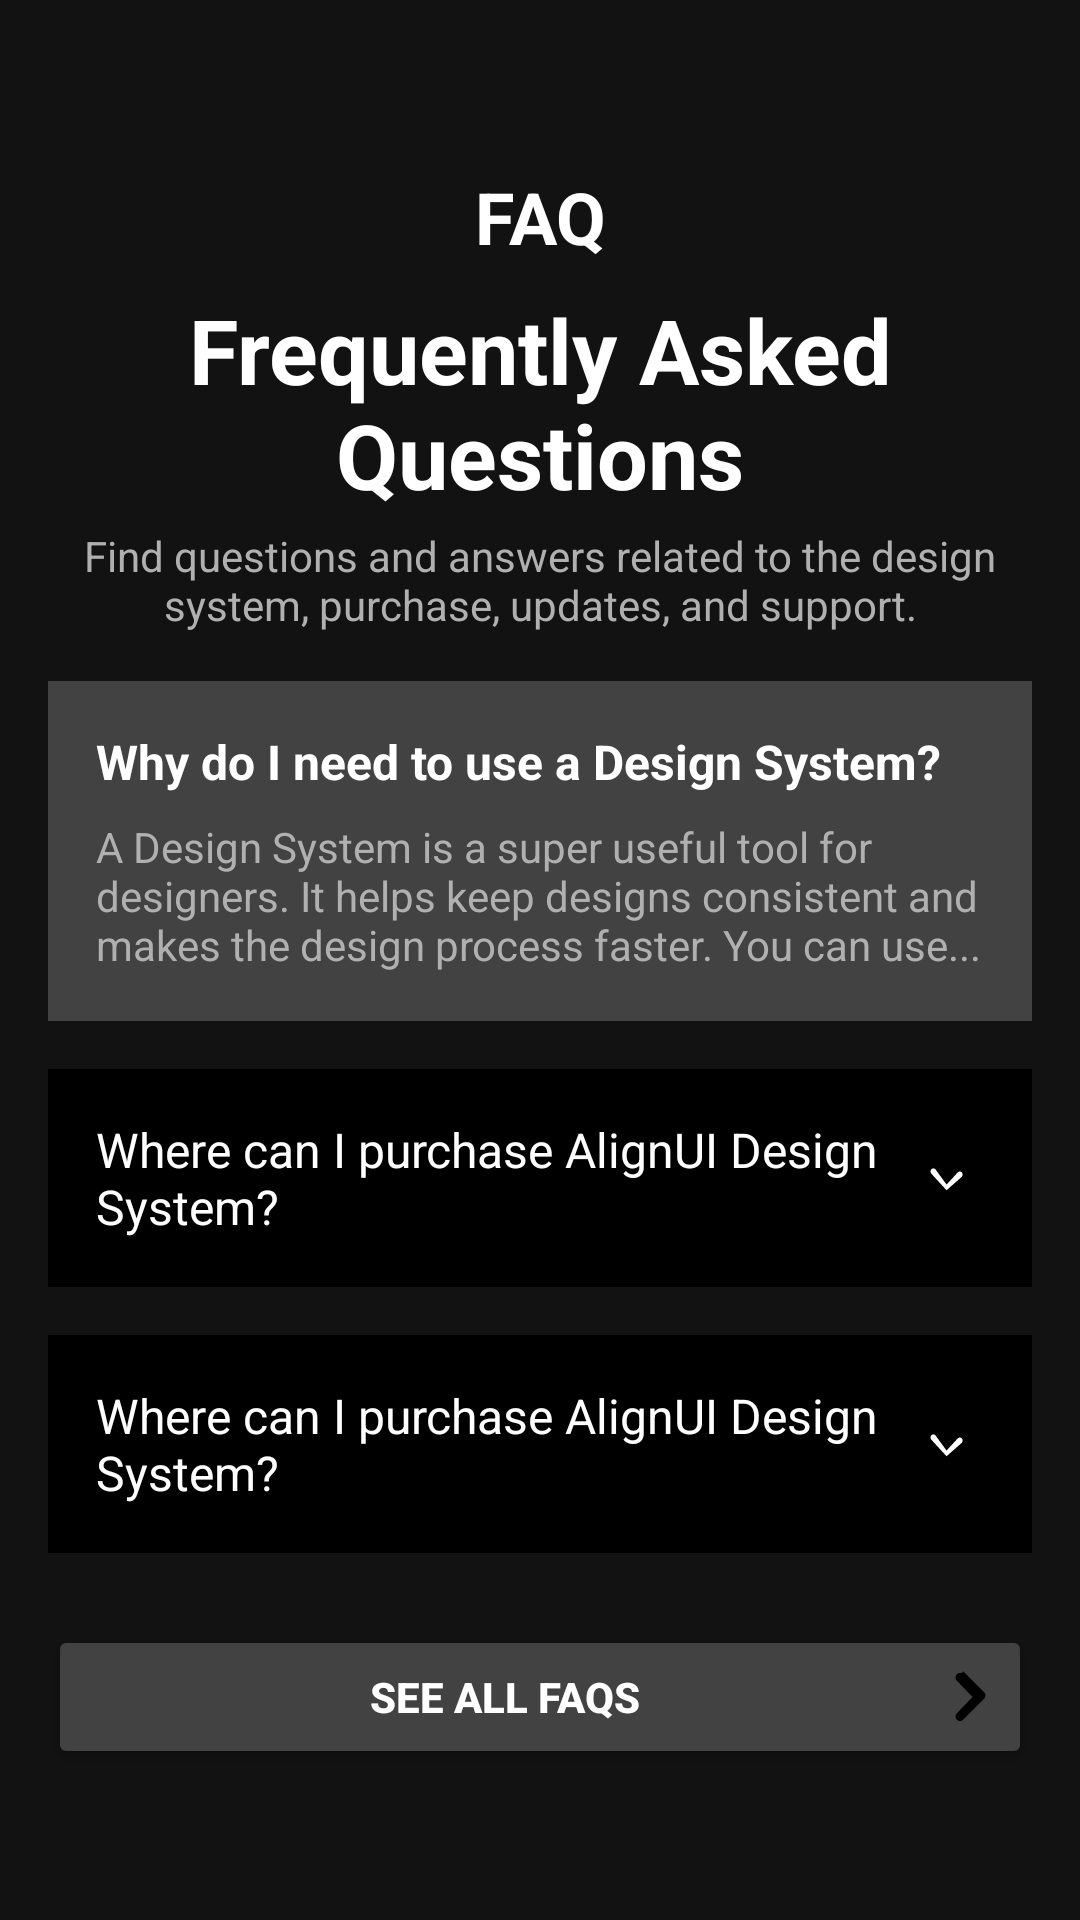

Icon click points for this 1080x1920 phone screenshot, format (x=x, y=y):
expand more: (x=946, y=1179), (x=946, y=1445)
